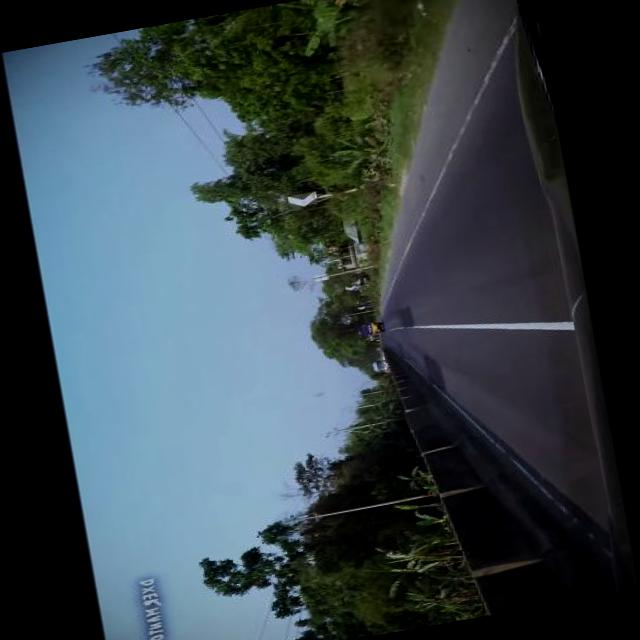bus: (368, 355, 386, 371)
truck: (355, 316, 383, 336)
